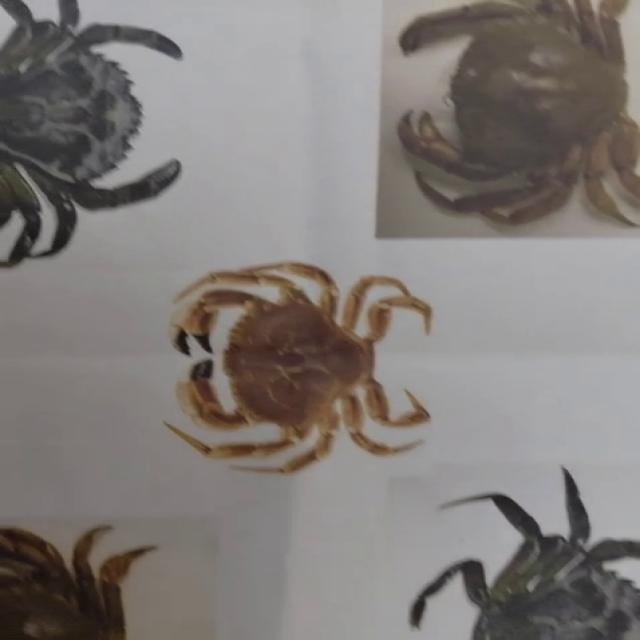egc: (410, 468, 639, 639)
